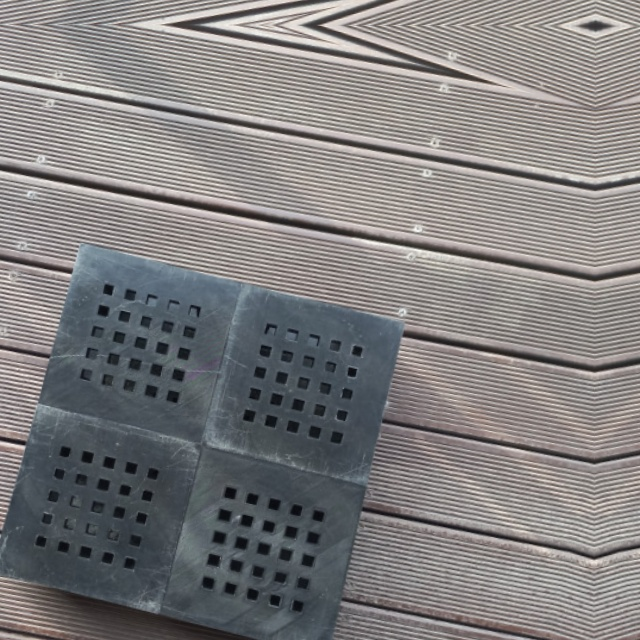pallet: (0, 229, 425, 638)
